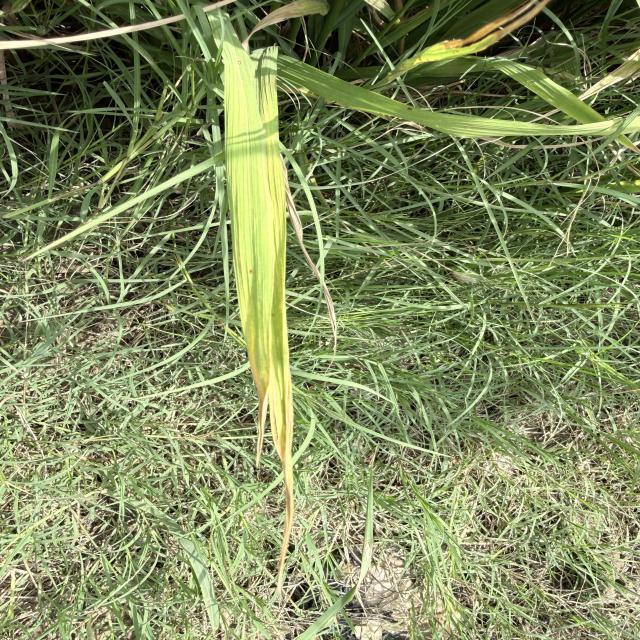Chay bia la: (250, 354, 296, 589)
